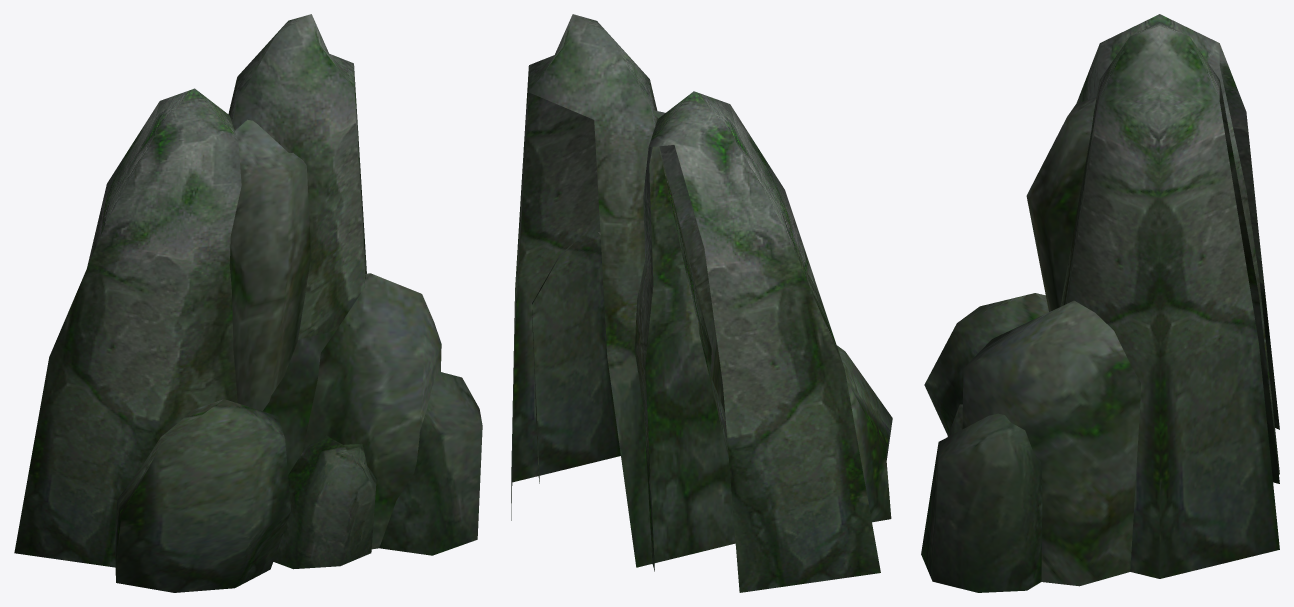
File: yw_wuliangshan_dimianfengbian01.FBX
3 renders of one model, left to right at view 1: azimuth 30°, elevation 25°; view 2: azimuth 150°, elevation 25°; view 3: azimuth 270°, elevation 25°, orthographic. The views are drawn at different scales.
Parts seen in each view (by area): view 1: yw_wuliangshan_dimianfengbian01; view 2: yw_wuliangshan_dimianfengbian01; view 3: yw_wuliangshan_dimianfengbian01.
Boxes of the visible parts, x1=… form: yw_wuliangshan_dimianfengbian01: x1=14, y1=14, x2=482, y2=592; yw_wuliangshan_dimianfengbian01: x1=511, y1=14, x2=892, y2=592; yw_wuliangshan_dimianfengbian01: x1=921, y1=14, x2=1279, y2=592.
Bounding box in the file's own units: 233 × 270 × 169.
